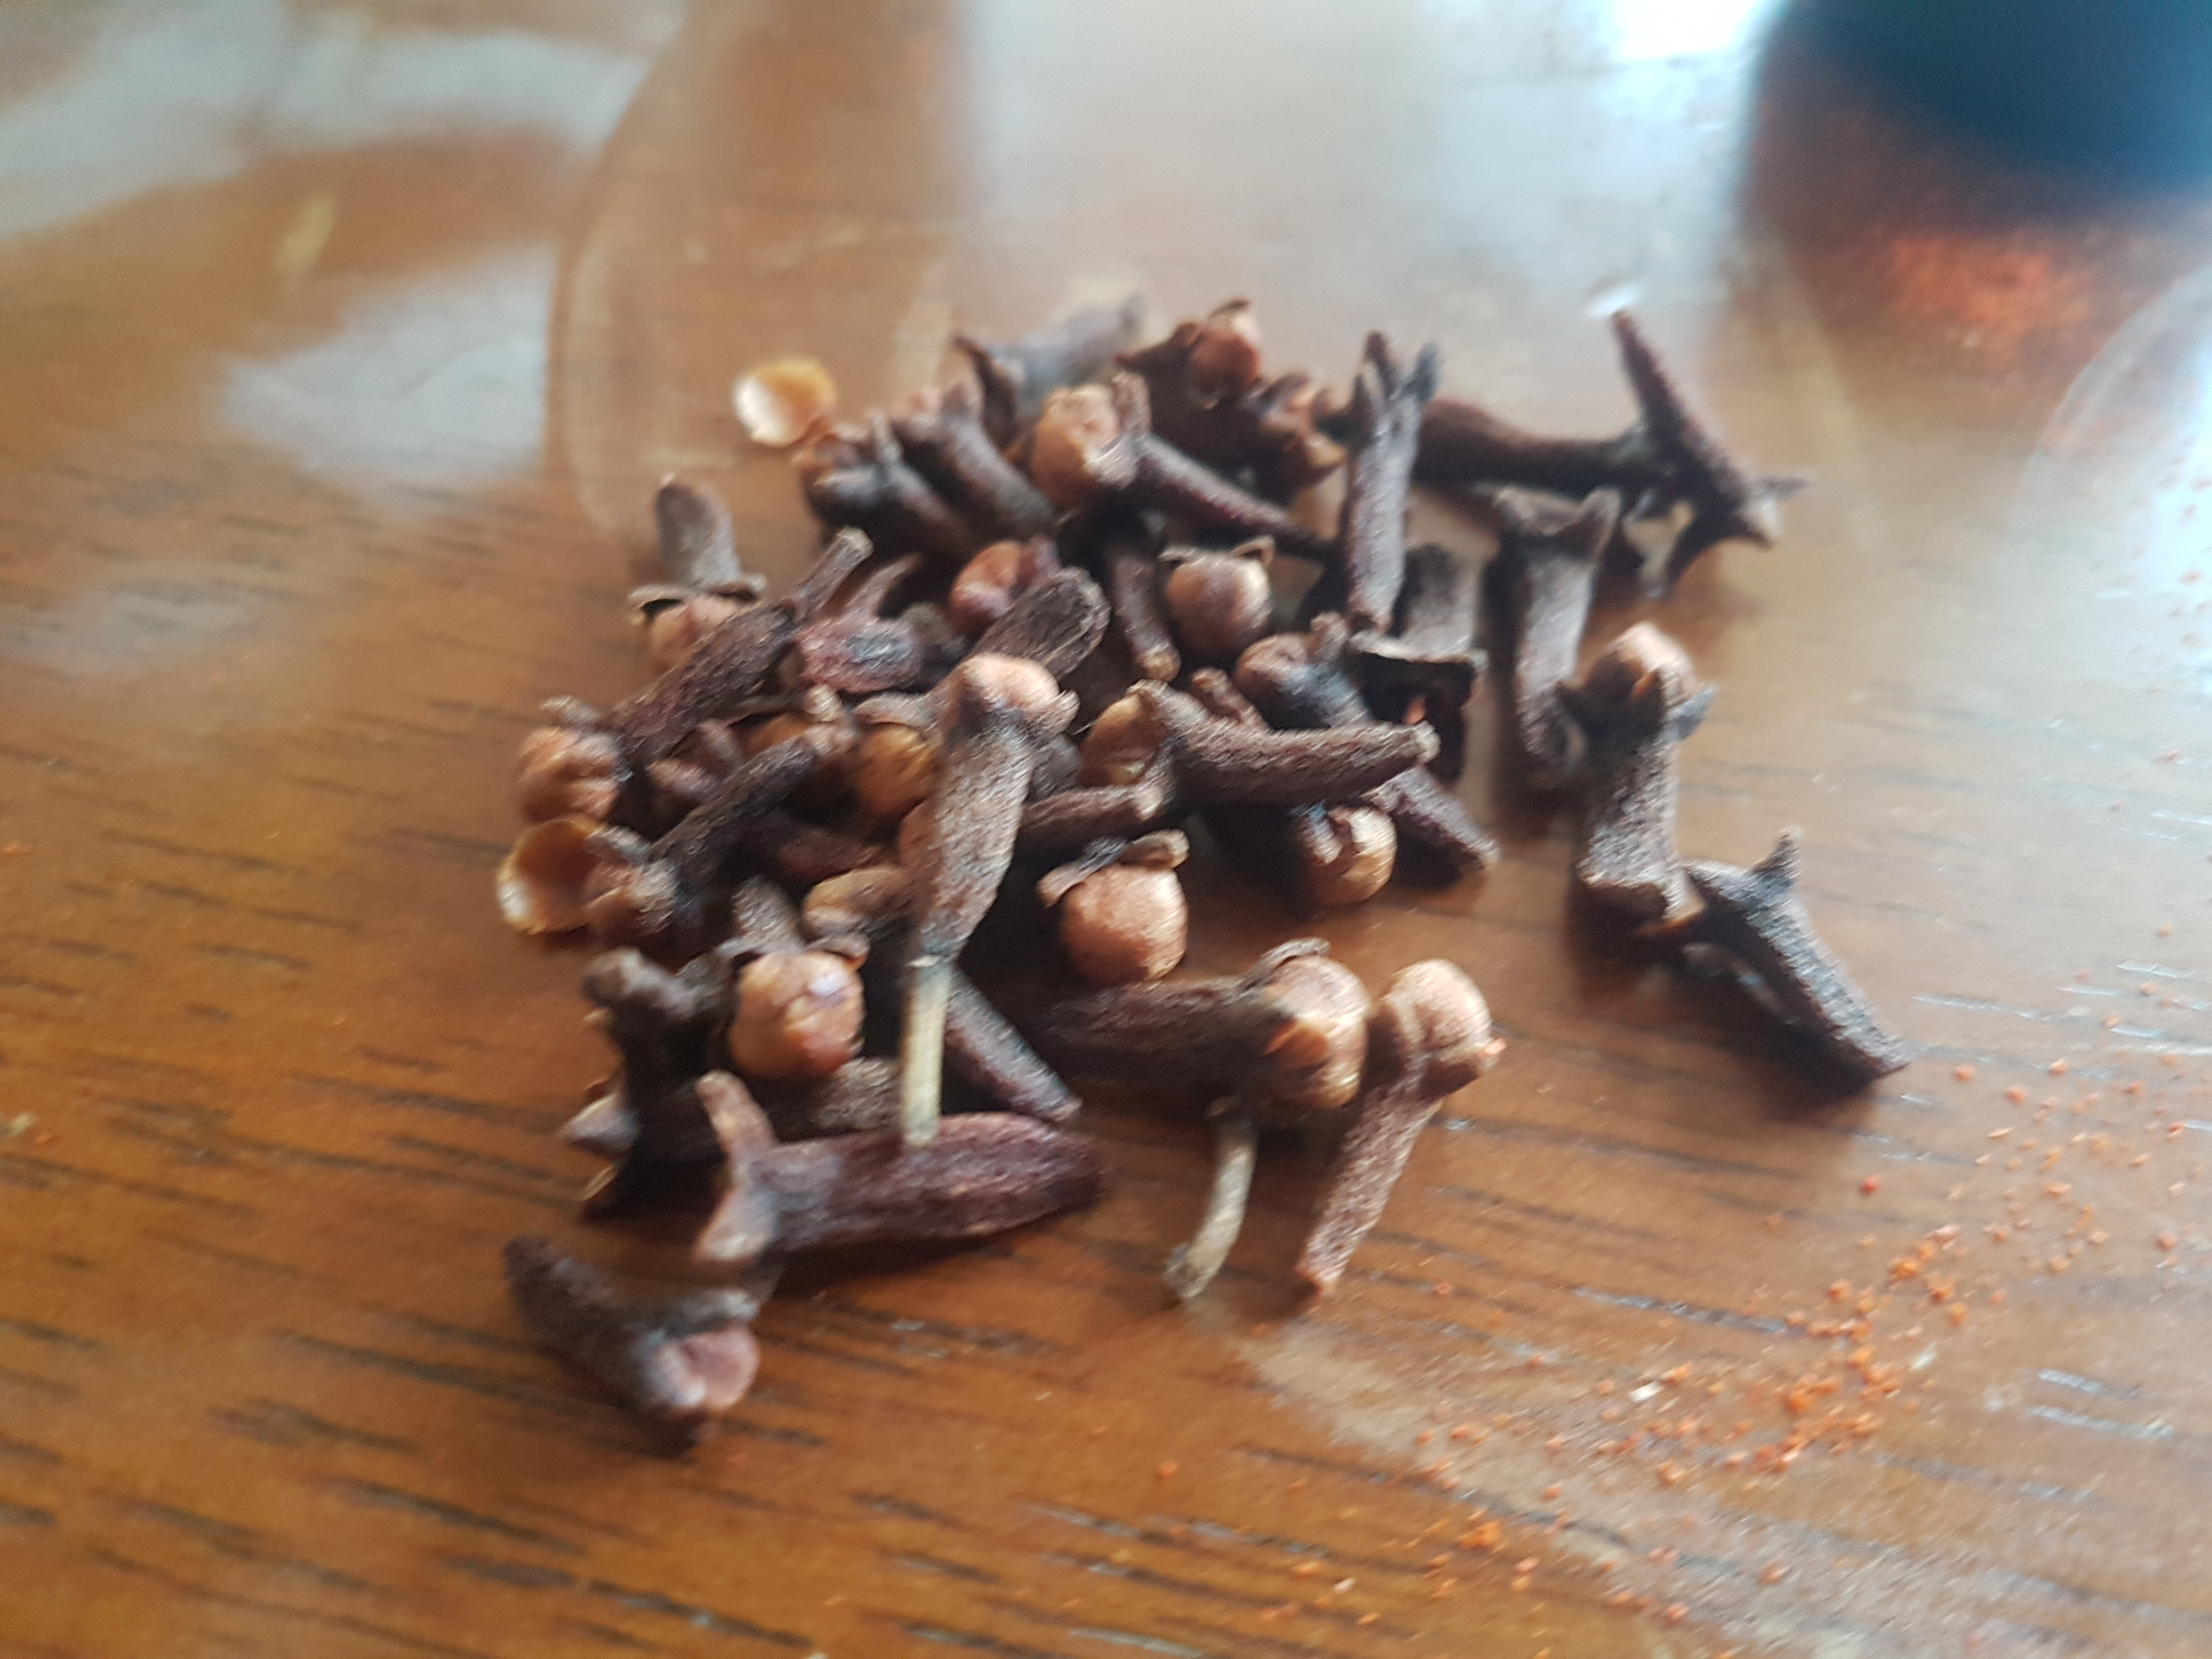Cloves: (502, 303, 1998, 1448)
